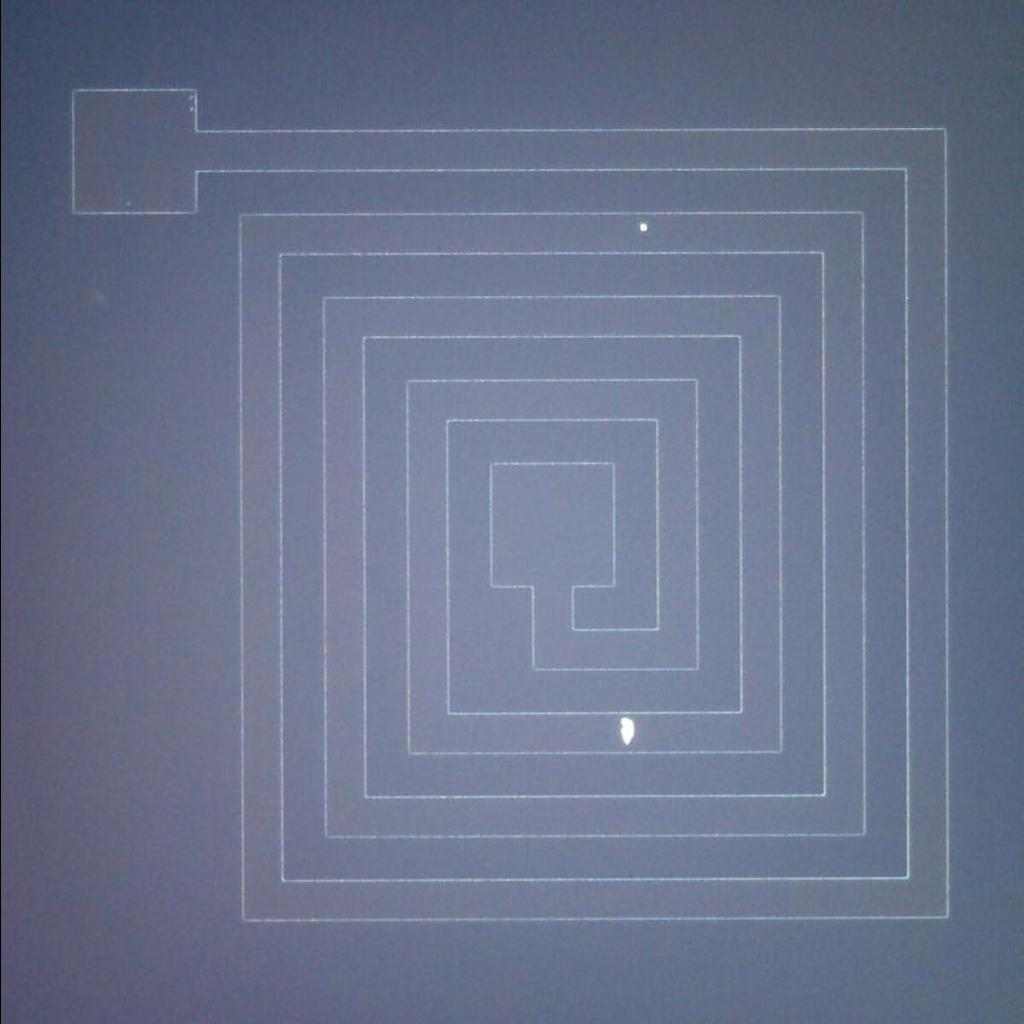dot: (625, 210, 658, 245)
spot: (610, 712, 644, 748)
